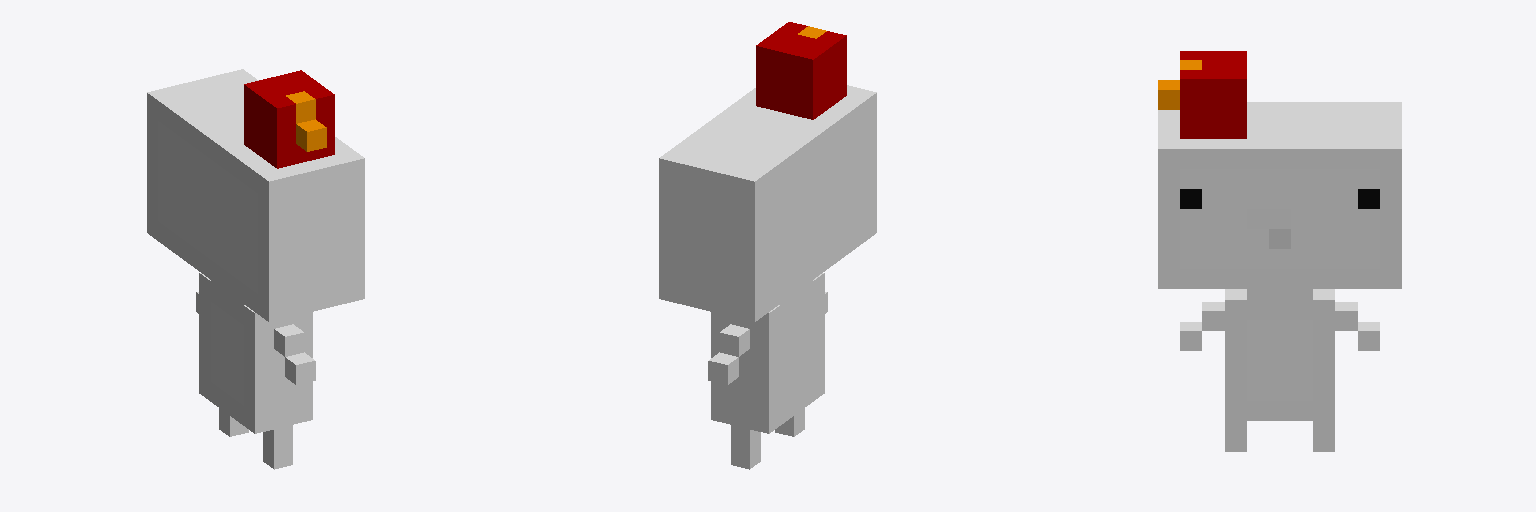
3 renders of one model, left to right at view 1: azimuth 30°, elevation 25°; view 2: azimuth 150°, elevation 25°; view 3: azimuth 270°, elevation 25°, orthographic.
Size of the model in its own units: 5 by 19 by 11.
Materials: 1 (1 with a texture image).